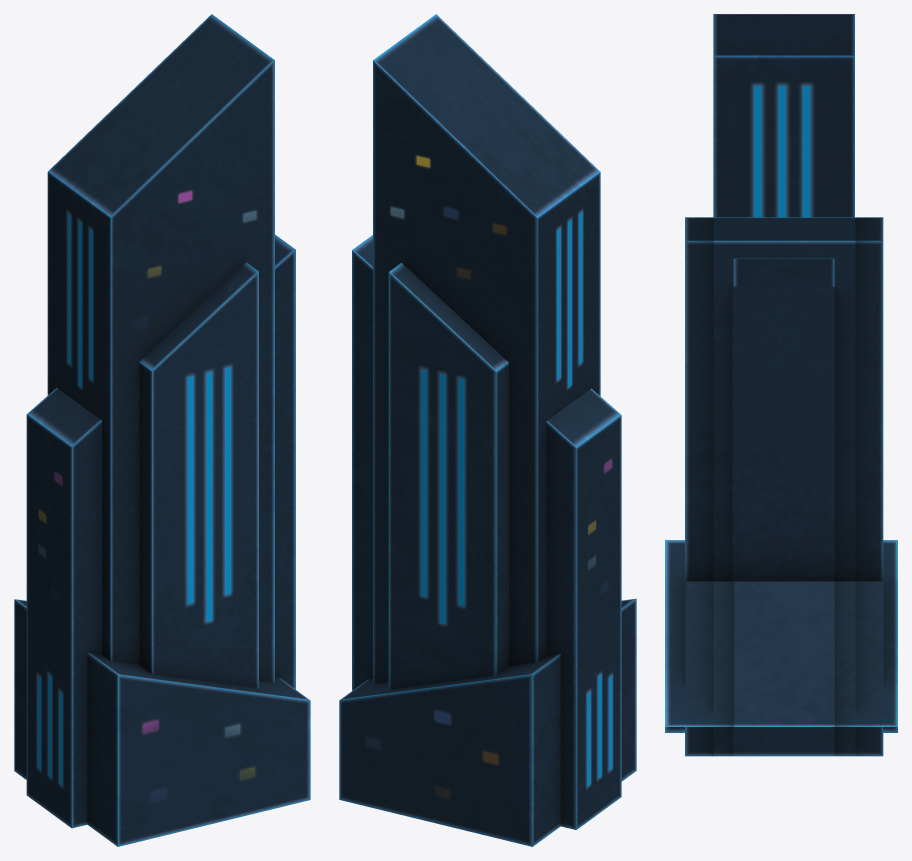
Rendered from Building_3_3.fbx.
The picture shows the model from 3 angles, left to right: view 1: azimuth 30°, elevation 25°; view 2: azimuth 150°, elevation 25°; view 3: azimuth 270°, elevation 25°; orthographic projection. The views are drawn at different scales.
Visible parts, largest first — view 1: Building_3_3; view 2: Building_3_3; view 3: Building_3_3.
Part boxes in pixels (box(x1,y1,x2,y2)): Building_3_3: box(14, 14, 310, 846); Building_3_3: box(339, 14, 636, 846); Building_3_3: box(665, 14, 897, 756).
Bounding box in the file's own units: 6.15 × 19.08 × 4.93.
